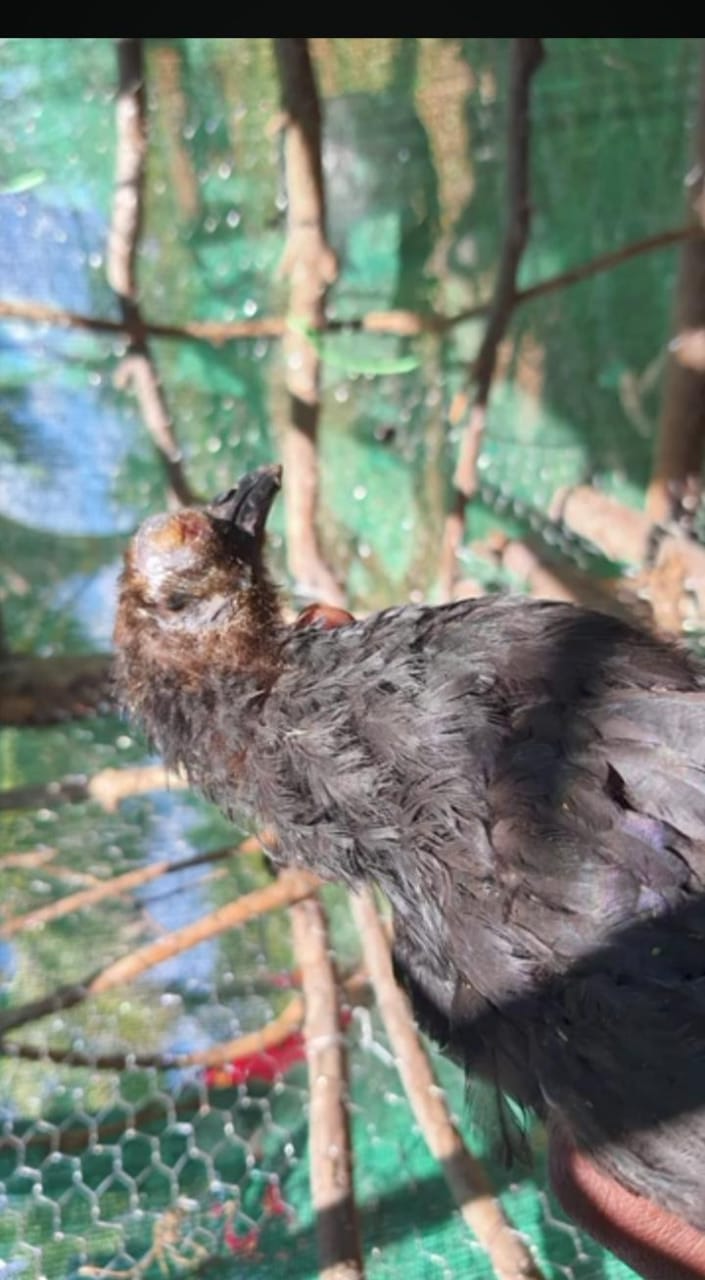Unhealthy: (79, 422, 668, 1076)
